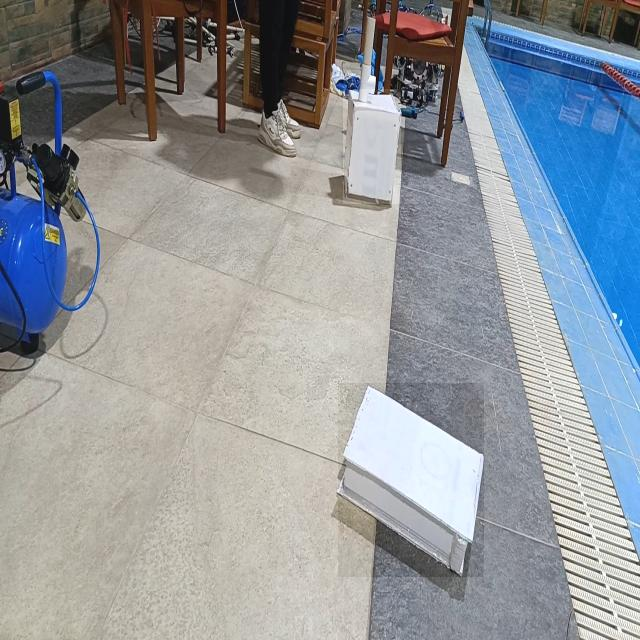Cube: (343, 89, 401, 204)
Cuboid: (338, 383, 484, 577)
